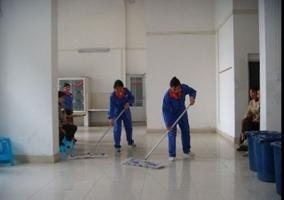person without safety: (158, 76, 199, 162), (102, 79, 138, 155)
